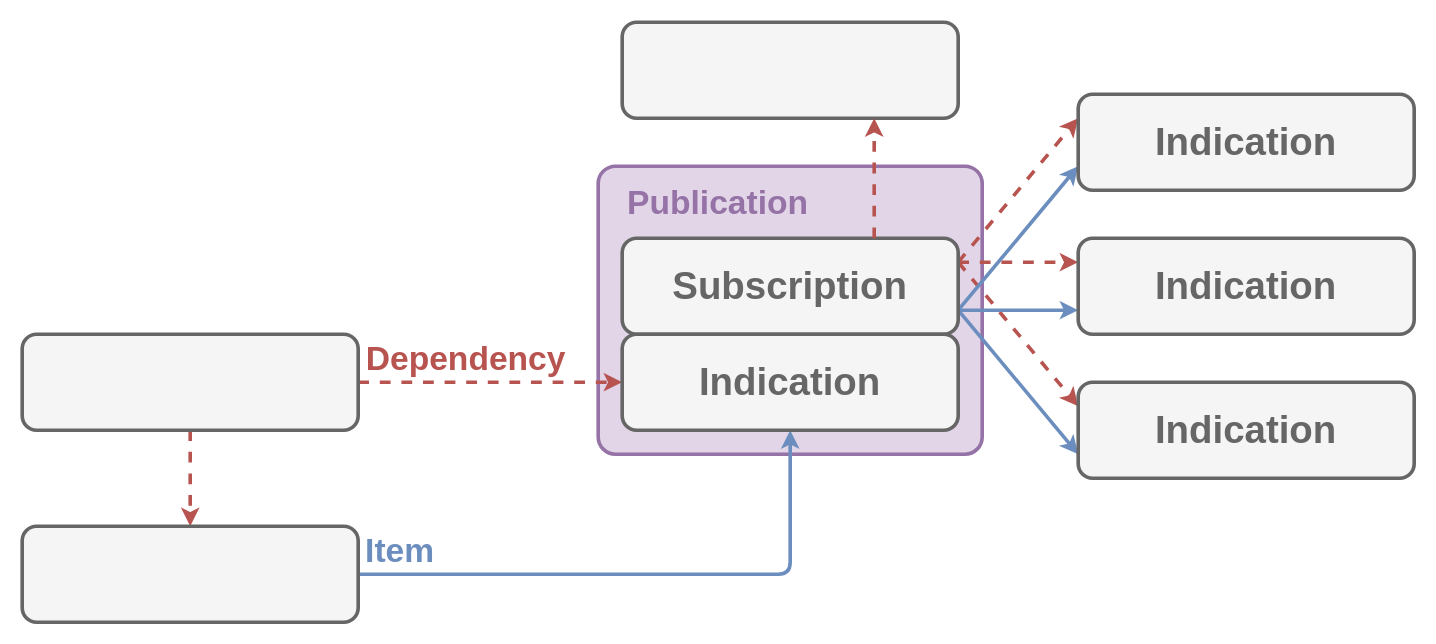
Image size: 1436x644. Some labels were removed from this diagram. Here are the shapes that lost their labels. From the top down, the box of each, then its label:
(620, 20, 959, 119): Unsubscription
(20, 332, 359, 431): Observation
(20, 524, 359, 623): Inspection
